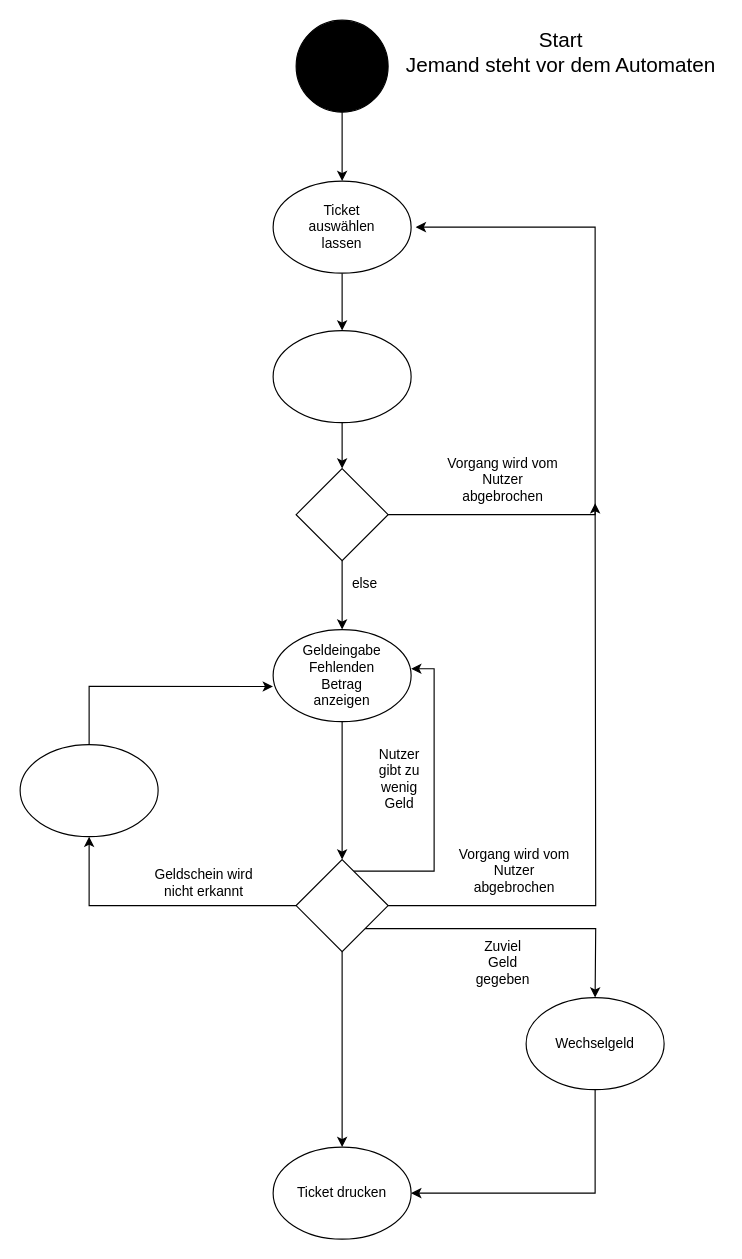
The diagram is 742 pixels wide and 1259 high, and some of its shapes have lost their labels. Here are the shapes that lost their labels. From the top down, the centre of each, then its label:
the point at 341,376: Preis und Beschreibung anzeigen
the point at 88,790: Gelschein wieder rausgeben
